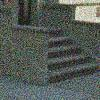stairs: (43, 27, 98, 82)
